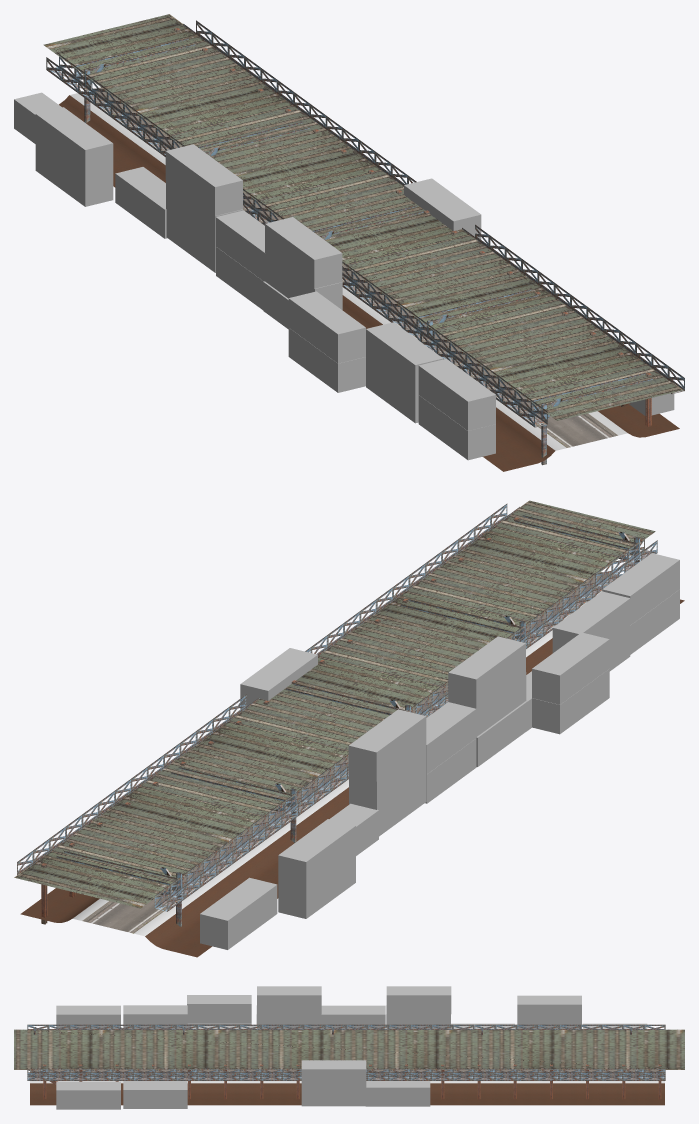
Rendered from road.fbx.
The picture shows the model from 3 angles, top to bottom: view 1: azimuth 30°, elevation 25°; view 2: azimuth 150°, elevation 25°; view 3: azimuth 270°, elevation 25°; orthographic projection. The views are drawn at different scales.
Visible parts, largest first — view 1: Plane.001, Plane.003, Plane, Cube.019, Cube.007, Cube.003, Cube.008, Cube.010, Cube.006, Cube.014, Plane.002, Cube.016 (+12 smaller); view 2: Plane.001, Plane.003, Plane, Cube.010, Cube.008, Cube.007, Cube.018, Cube.019, Cube.003, Plane.002, Cube.006, Cube.016 (+12 smaller); view 3: Plane.001, Plane, Plane.003, Cube.010, Cube.008, Cube.021, Cube.019, Cube.025, Cube.007, Cube.022, Cube.023, Cube.003 (+9 smaller).
Part boxes in pixels (x1,y1,x2,y2): Plane.001: [43, 14, 682, 420]; Plane.003: [46, 20, 684, 427]; Plane: [59, 87, 679, 471]; Cube.019: [35, 107, 113, 179]; Cube.007: [288, 291, 365, 363]; Cube.003: [418, 358, 495, 430]; Cube.008: [265, 217, 342, 288]; Cube.010: [165, 144, 242, 215]; Cube.006: [366, 322, 443, 394]; Cube.014: [115, 167, 167, 238]; Plane.002: [76, 38, 653, 417]; Cube.016: [216, 210, 265, 281]; Plane.001: [14, 500, 655, 908]; Plane.003: [17, 503, 657, 911]; Plane: [20, 572, 684, 957]; Cube.010: [348, 709, 426, 781]; Cube.008: [448, 636, 525, 708]; Cube.007: [532, 632, 609, 704]; Cube.018: [200, 877, 277, 949]; Cube.019: [278, 819, 355, 891]; Cube.003: [602, 553, 679, 624]; Plane.002: [56, 515, 635, 894]; Cube.006: [552, 591, 630, 652]; Cube.016: [426, 702, 476, 773]; Plane.001: [14, 1029, 684, 1069]; Plane: [30, 1070, 664, 1105]; Plane.003: [27, 1024, 665, 1080]; Cube.010: [386, 986, 451, 1014]; Cube.008: [257, 986, 321, 1014]; Cube.021: [56, 1081, 120, 1109]; Cube.019: [517, 995, 581, 1023]; Cube.025: [301, 1060, 366, 1088]; Cube.007: [187, 995, 251, 1022]; Cube.022: [123, 1081, 187, 1108]; Cube.023: [366, 1078, 430, 1106]; Cube.003: [56, 1005, 120, 1028].
Size of the model in its own units: 1165 by 449 by 4392.
